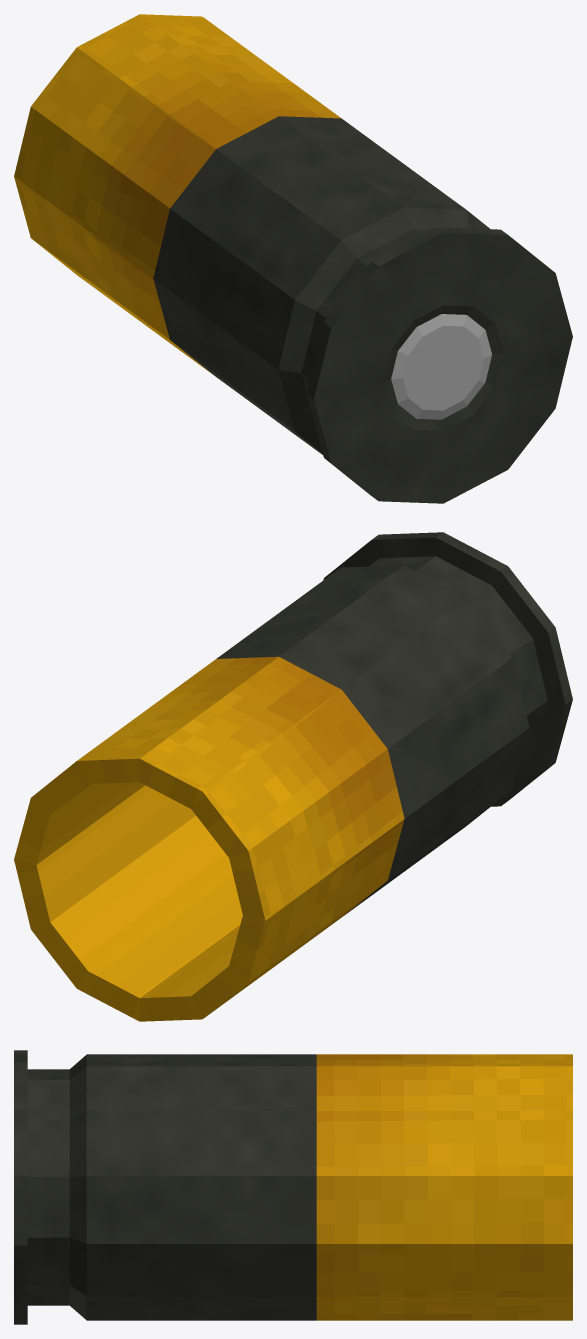
The model's file is GrenadeCasing.fbx.
3 views of the same model, one above another, from view 1: azimuth 30°, elevation 25°; view 2: azimuth 150°, elevation 25°; view 3: azimuth 270°, elevation 25° (orthographic). The views are drawn at different scales.
Visible parts, largest first — view 1: Circle.052; view 2: Circle.052; view 3: Circle.052.
Boxes of the visible parts, x1=… form: Circle.052: x1=14, y1=14, x2=572, y2=503; Circle.052: x1=14, y1=532, x2=572, y2=1021; Circle.052: x1=14, y1=1050, x2=572, y2=1324.
Size of the model in its own units: 0.0264 by 0.0264 by 0.0537.
3 materials, 2 textured.
